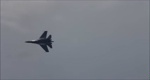maybay_muctieu: (26, 31, 55, 55)
